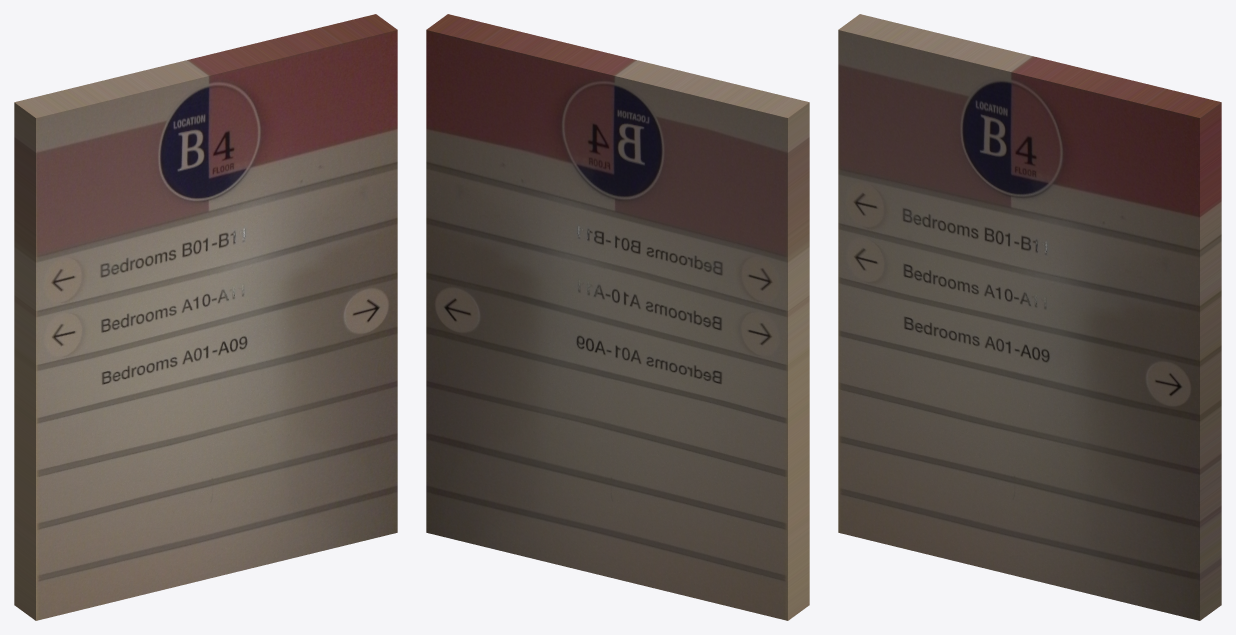
Rendered from directional_sign.fbx.
The picture shows the model from 3 angles, left to right: view 1: azimuth 30°, elevation 25°; view 2: azimuth 150°, elevation 25°; view 3: azimuth 330°, elevation 25°; orthographic projection.
Visible parts, largest first — view 1: pCube1; view 2: pCube1; view 3: pCube1.
Part boxes in pixels (box(x1,y1,x2,y2)): pCube1: box(14, 14, 397, 620); pCube1: box(426, 14, 809, 620); pCube1: box(838, 14, 1221, 620).
Size of the model in its own units: 1 by 1.33 by 0.1041.
1 material, 1 textured.
